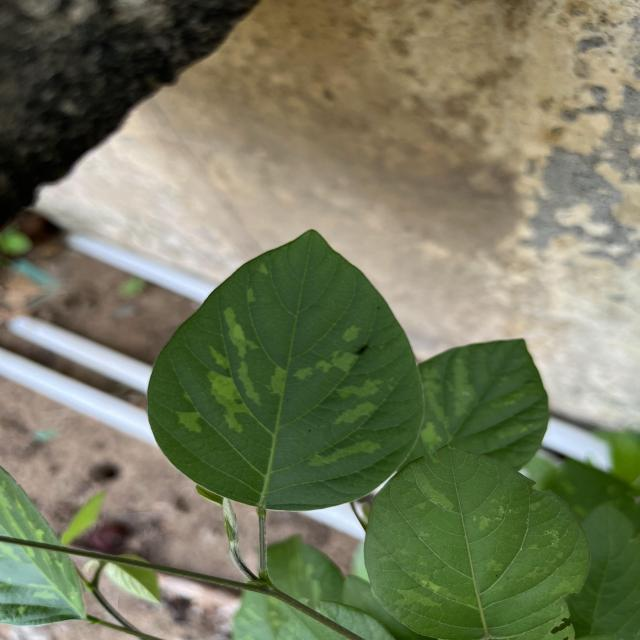Desmodium gangeticum: (144, 222, 431, 520), (358, 437, 598, 640)
